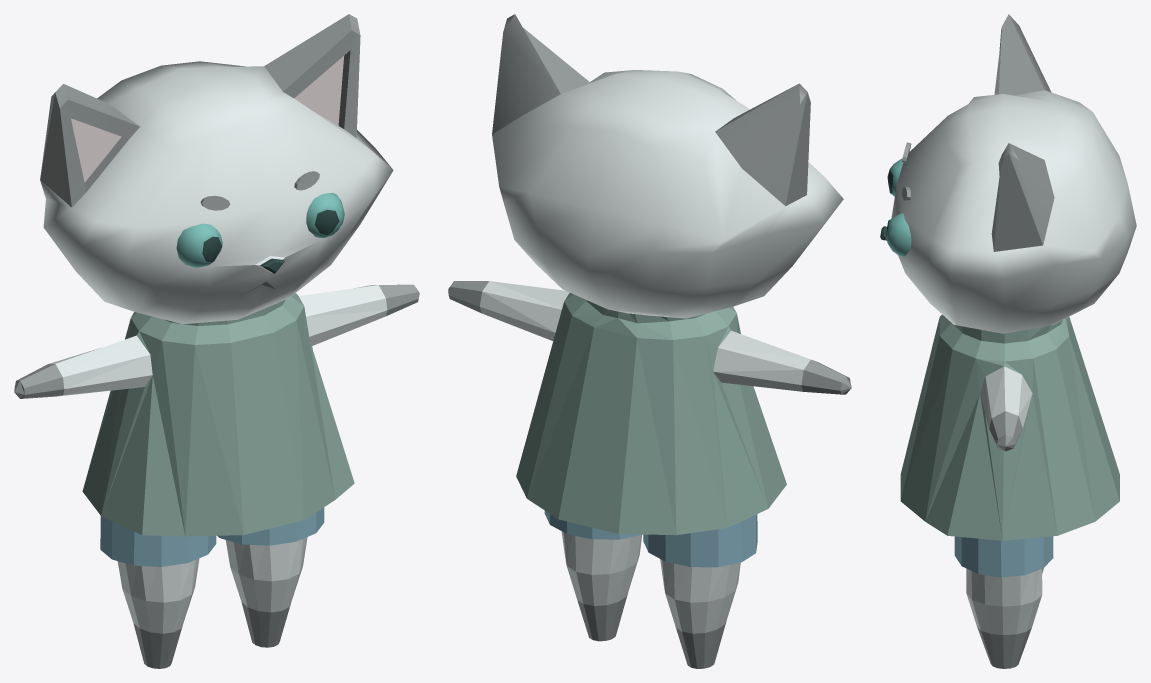
File: Topher.fbx
3 renders of one model, left to right at view 1: azimuth 30°, elevation 25°; view 2: azimuth 150°, elevation 25°; view 3: azimuth 270°, elevation 25°, orthographic. The views are drawn at different scales.
Visible parts, largest first — view 1: pCube2, pCylinder15, Shorts, pCube4, pCube5; view 2: pCube2, pCylinder15, Shorts; view 3: pCube2, pCylinder15, Shorts, pCube5.
Part boxes in pixels (x1,y1,x2,y2): pCube2: (40,14,393,323); pCylinder15: (14,284,419,536); Shorts: (100,507,324,668); pCube4: (176,223,222,267); pCube5: (306,192,344,238); pCube2: (492,14,843,318); pCylinder15: (448,281,851,535); Shorts: (544,510,757,668); pCube2: (880,14,1136,333); pCylinder15: (900,314,1119,540); Shorts: (954,536,1053,668); pCube5: (886,212,911,256).
Size of the model in its own units: 0.9999 by 1.43 by 0.5926.
